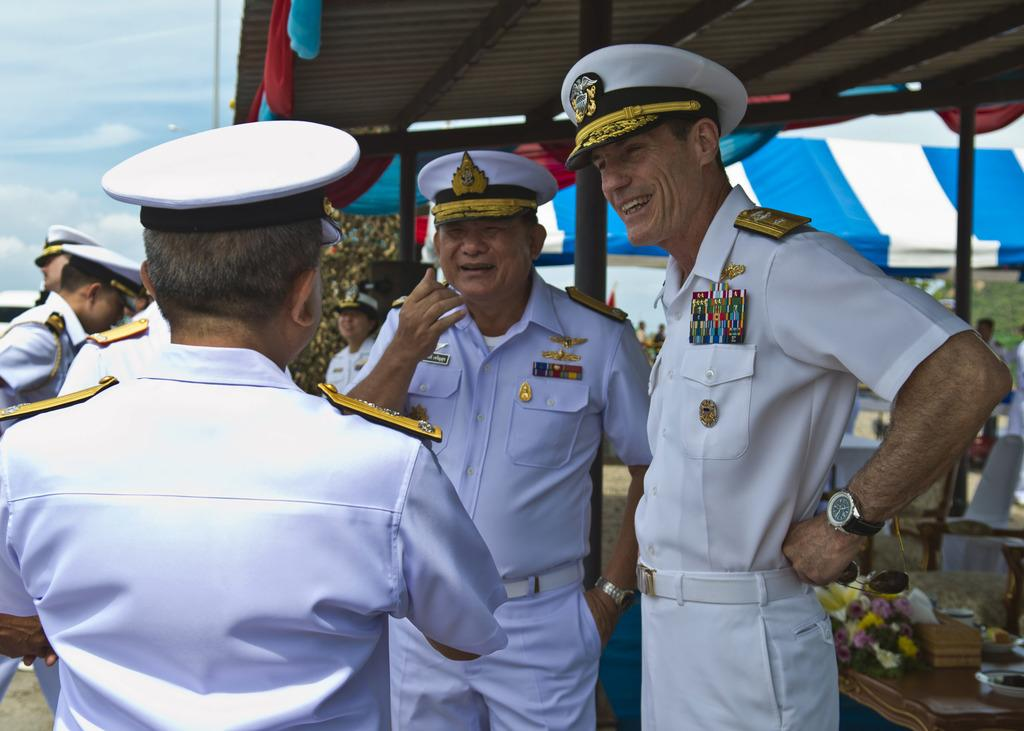Hat: (101, 112, 363, 232), (560, 40, 744, 169), (409, 151, 561, 224), (62, 244, 150, 301), (28, 220, 102, 264)
